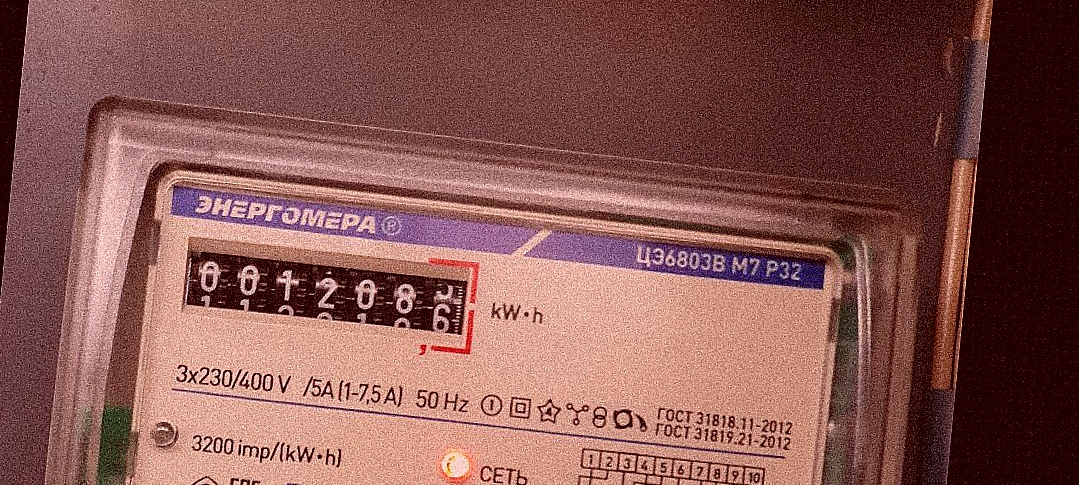0: (351, 274, 379, 311), (235, 259, 261, 298), (197, 255, 221, 294)
1: (276, 265, 296, 303)
2: (312, 274, 341, 311)
6: (427, 298, 454, 335)
8: (390, 279, 416, 317)
screen: (167, 223, 489, 370)
